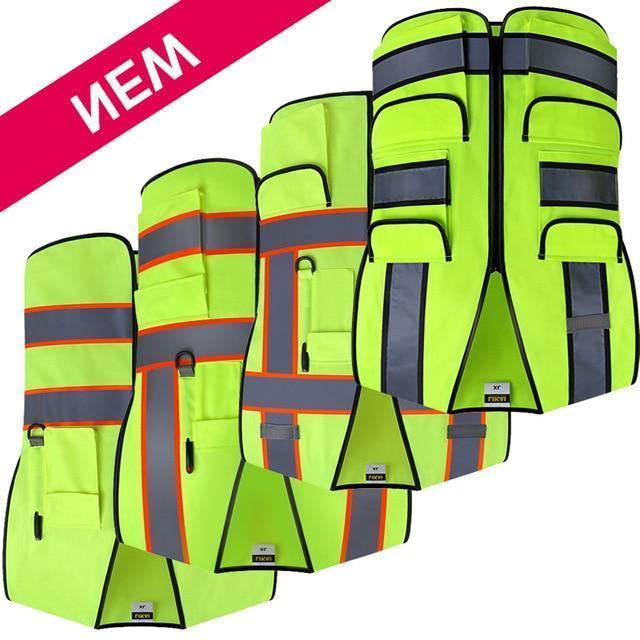jacket: (344, 0, 632, 422)
